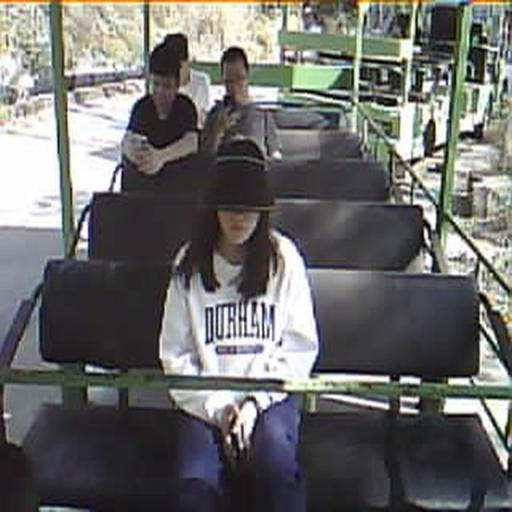persona: (158, 135, 320, 510), (120, 39, 201, 191), (202, 45, 282, 163), (165, 34, 212, 129)
